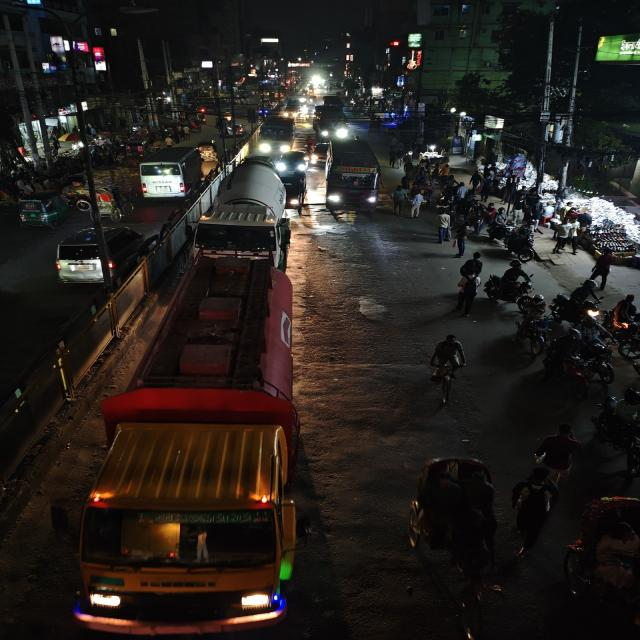bicycle: (422, 331, 466, 404)
bus: (318, 137, 382, 217), (136, 144, 206, 204), (256, 116, 296, 156), (312, 105, 351, 141)
car: (52, 222, 155, 286), (276, 149, 310, 176)
cng: (15, 190, 68, 230), (310, 140, 329, 164), (197, 140, 217, 160)
motorcycle: (591, 394, 640, 478), (546, 332, 609, 392), (513, 294, 552, 354), (496, 258, 534, 309), (505, 224, 539, 262)
pedestrian: (508, 466, 558, 562), (530, 420, 583, 483), (453, 273, 480, 316), (588, 250, 615, 290), (449, 219, 471, 257), (576, 278, 600, 310), (562, 218, 582, 256), (462, 250, 485, 280), (390, 184, 409, 216), (435, 210, 453, 243), (408, 188, 424, 220)
rickshaw: (556, 491, 640, 637), (74, 185, 127, 219)
truck: (82, 276, 306, 634), (190, 165, 286, 268)
